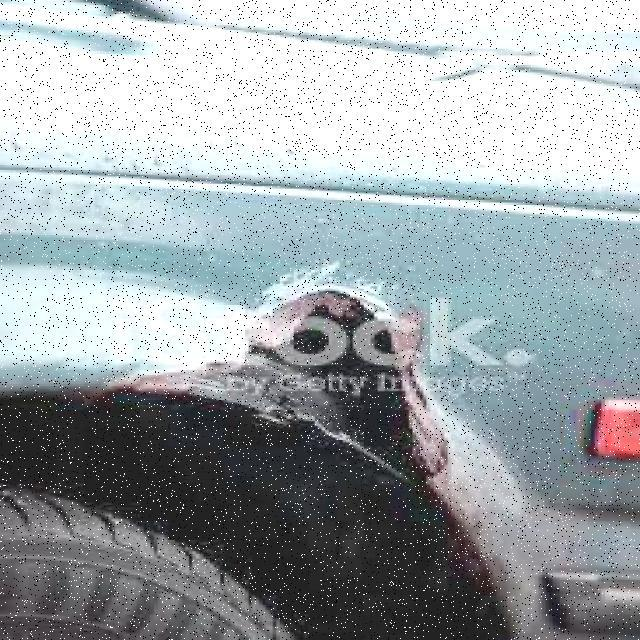car damage: (90, 252, 541, 578)
